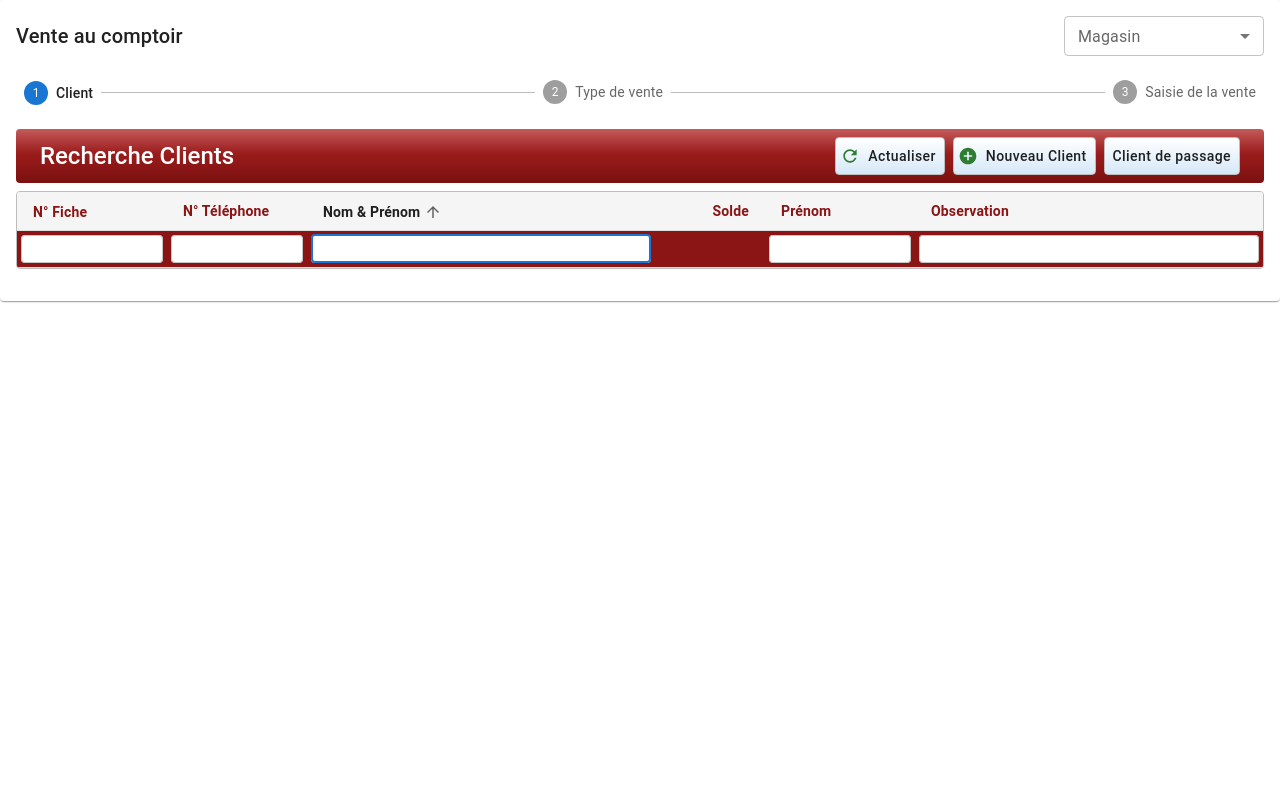
Test: client retrouvé dans le tableau par son n° de fiche, puis type de vente, puis encaissement
Type "42" into the field named "Filtrer N° Fiche" at (92, 249), box [21,230,163,267]
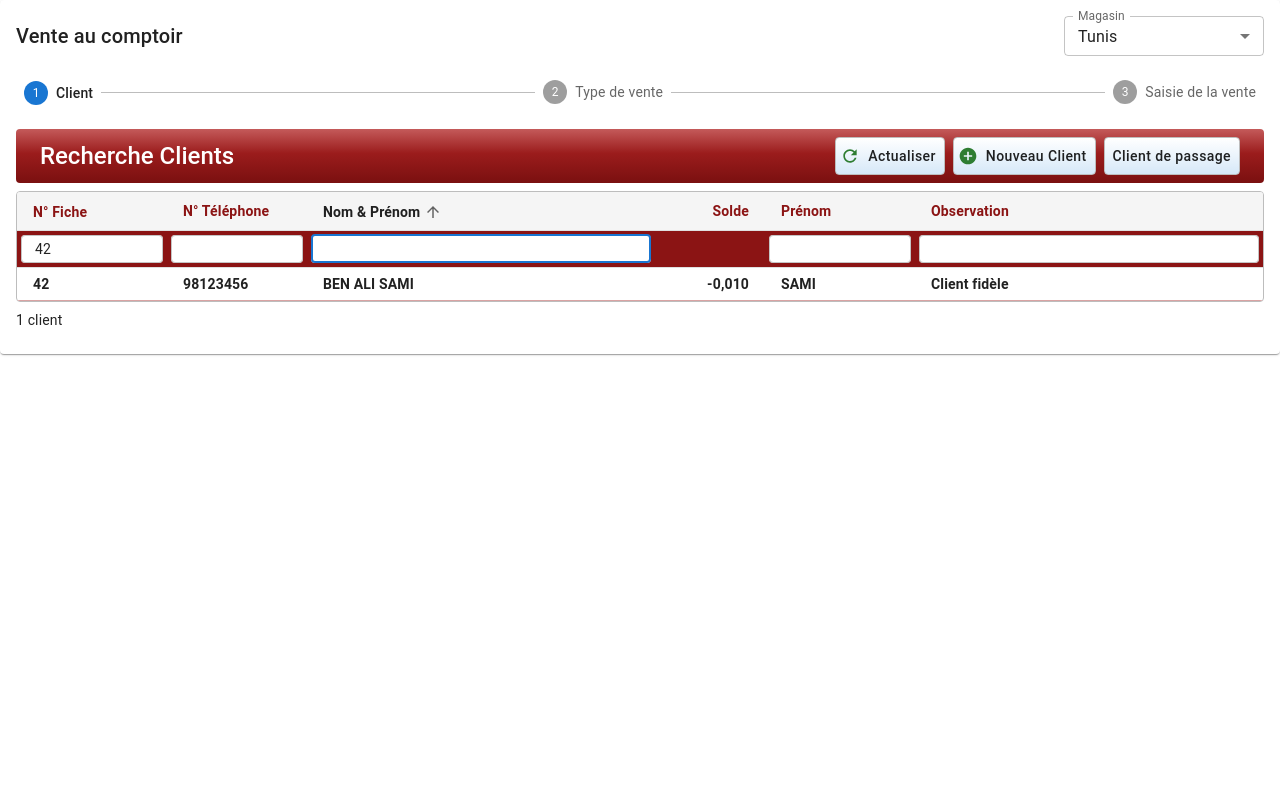
Now the text "-0,010" is shown, box [655,268,765,301]
Now the text "Client fidèle" is shown, box [915,268,1263,301]
Click the text "BEN ALI SAMI" at (640, 284), box [17,268,1263,301]
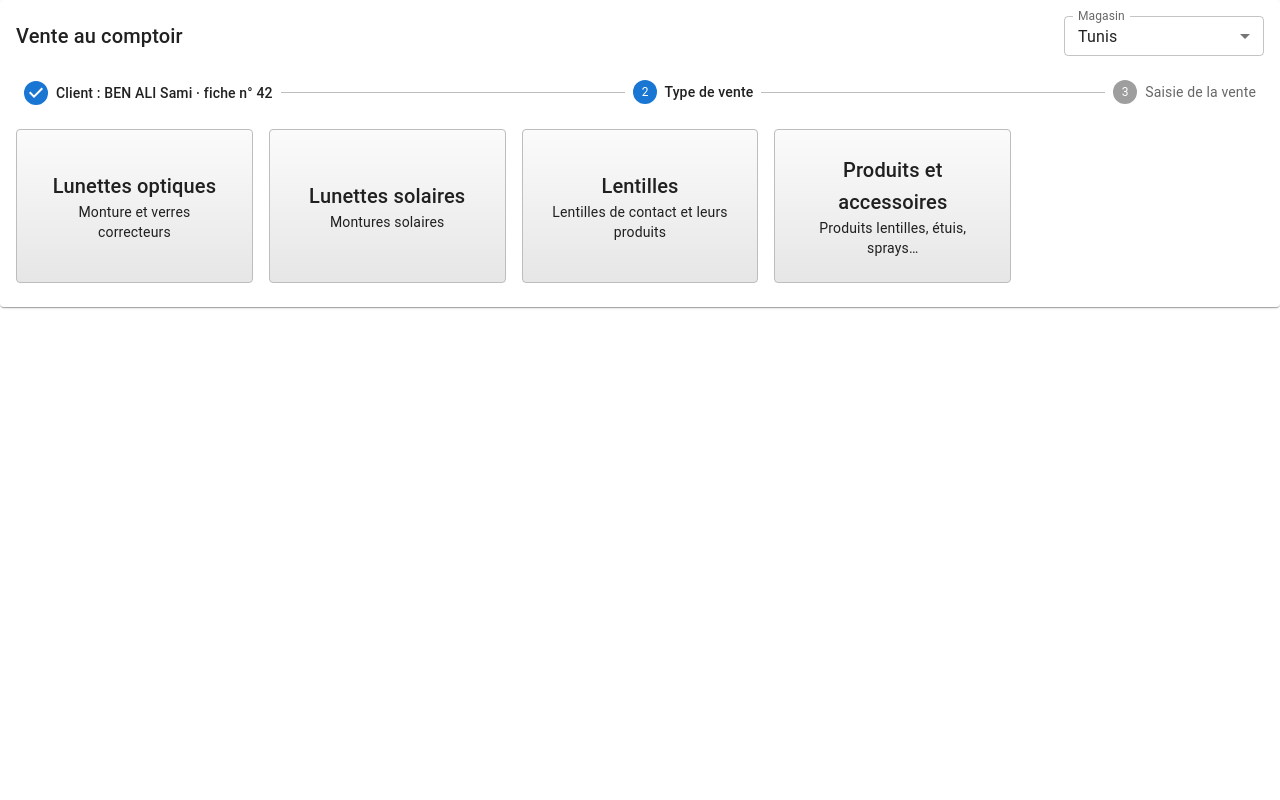
Click the button "Lunettes solaires Montures solaires" at (387, 206), box [269,129,506,283]
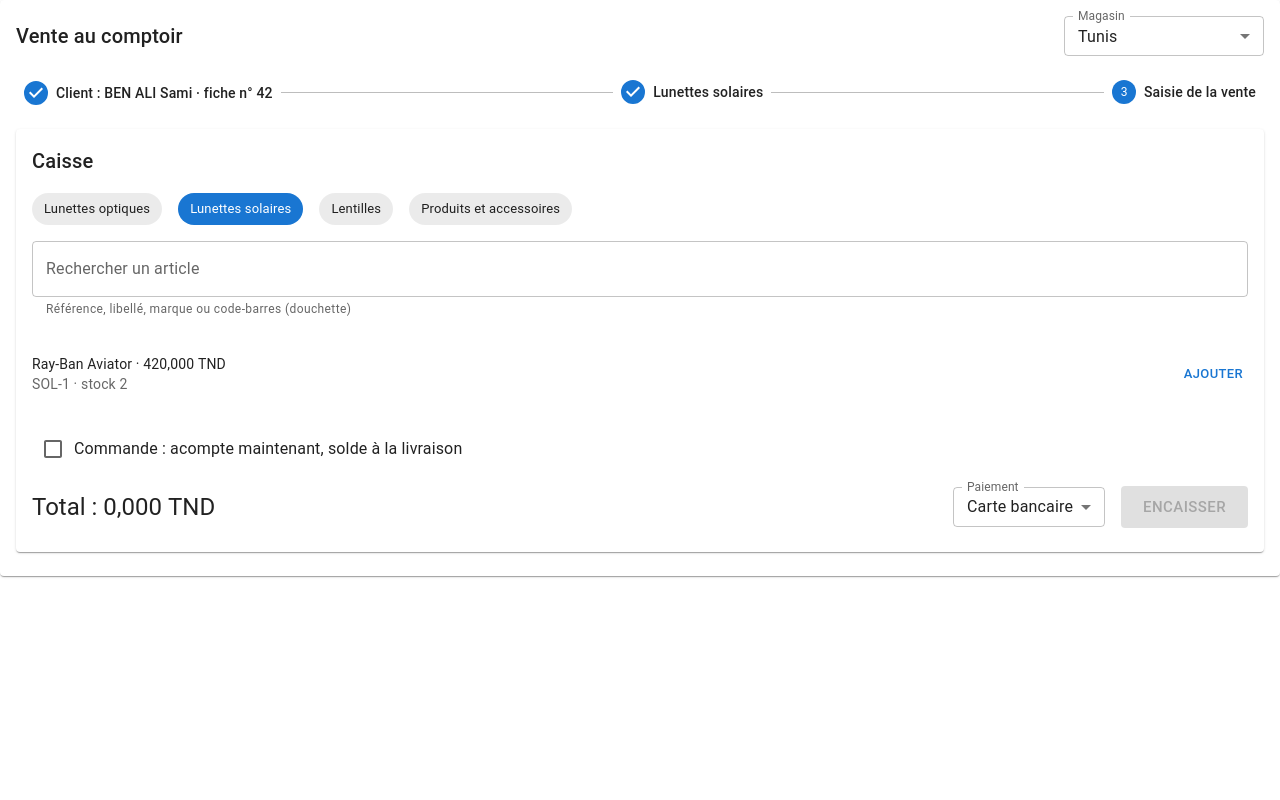
Click the button "Ajouter" at (1213, 374), box [1179,358,1248,389]
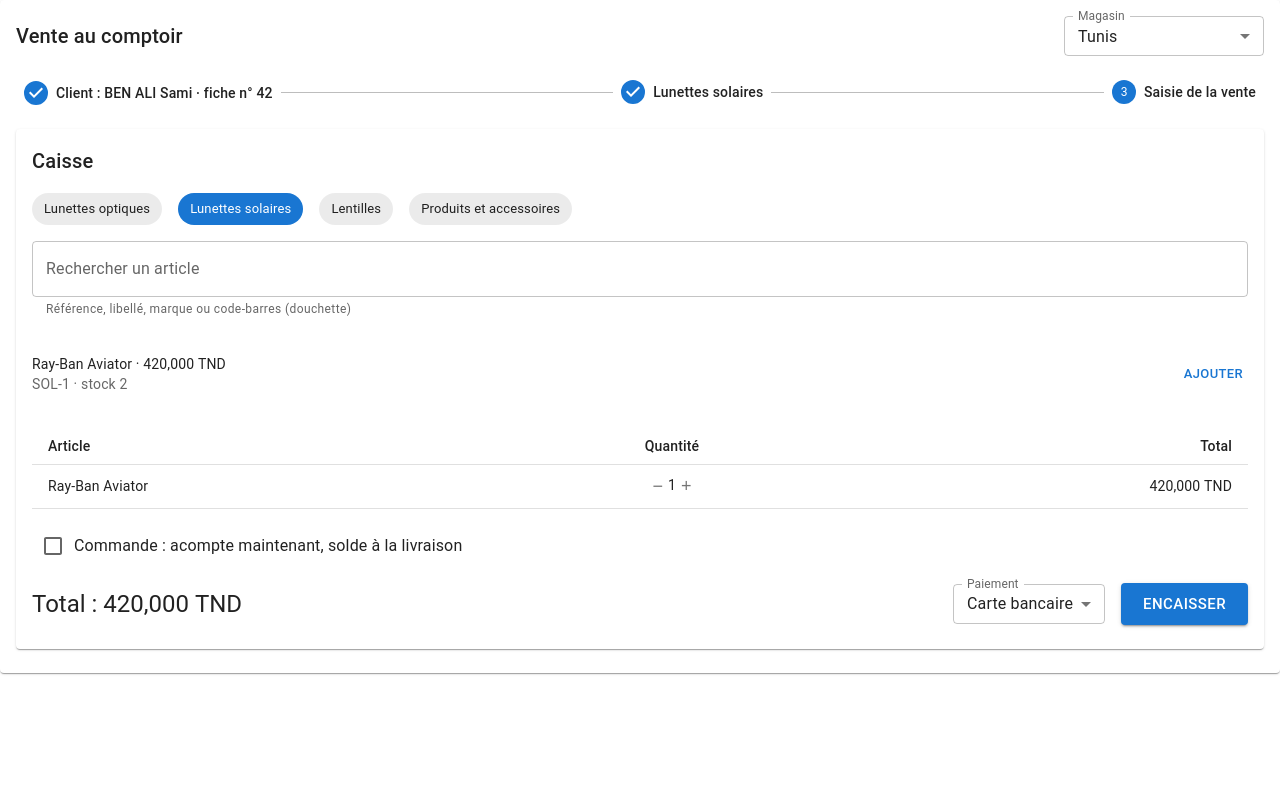
Now the text "Client : BEN ALI Sami · fiche n° 42" is shown, box [56,83,273,103]
Click the button "Encaisser" at (1184, 604), box [1121,583,1248,625]
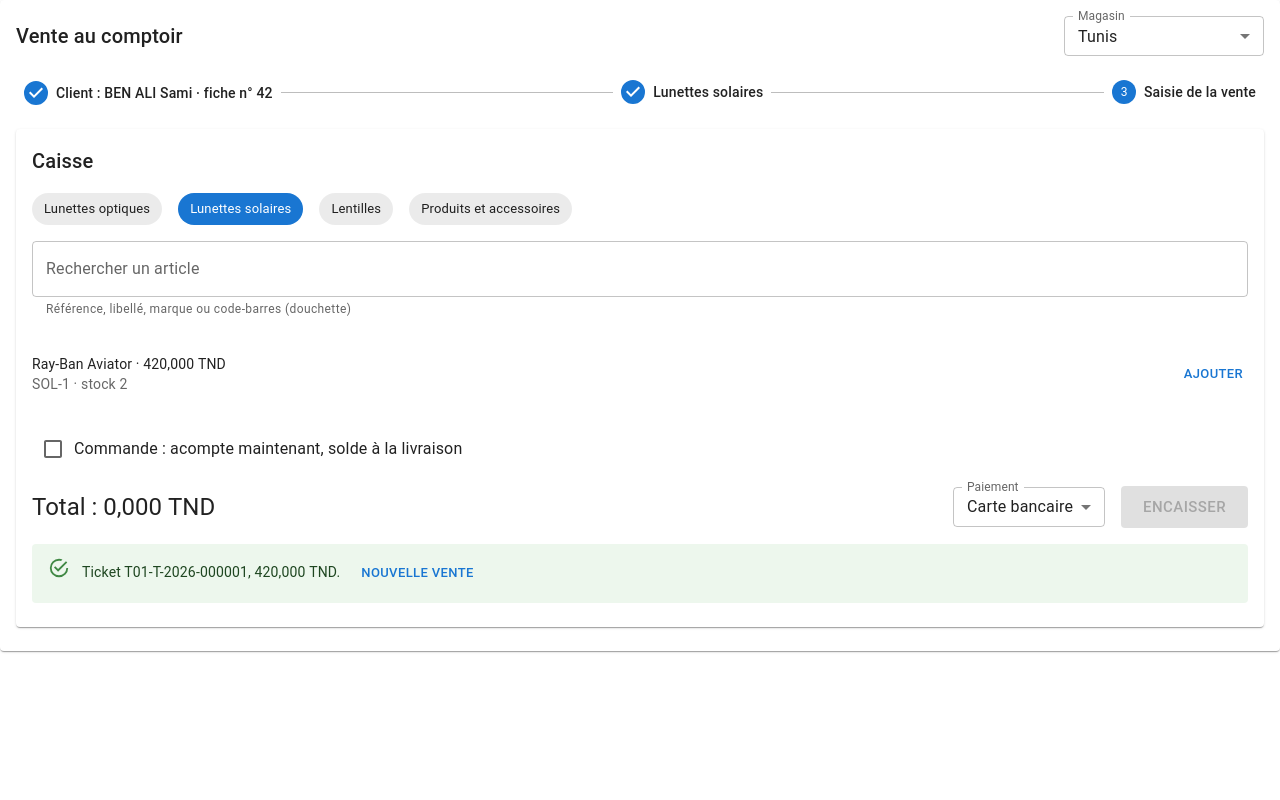
Now the text "Ticket T01-T-2026-000001, 420,000 TND. Nouvelle vente" is shown, box [82,550,479,597]
